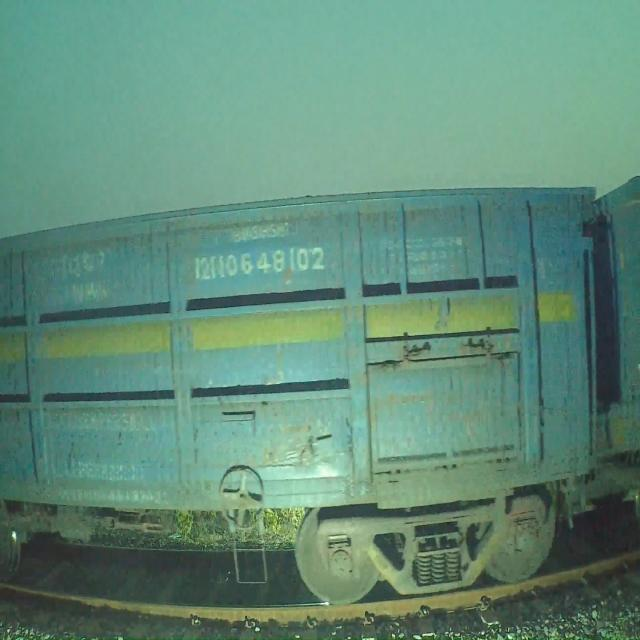WAgon-uic: (0, 180, 609, 608), (537, 169, 640, 573)
uic: (186, 240, 332, 284)
